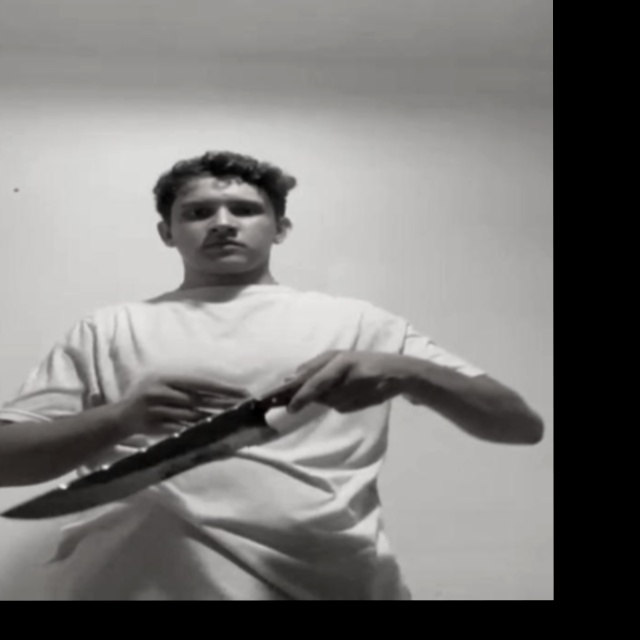Sharp-Object: (0, 402, 276, 522)
